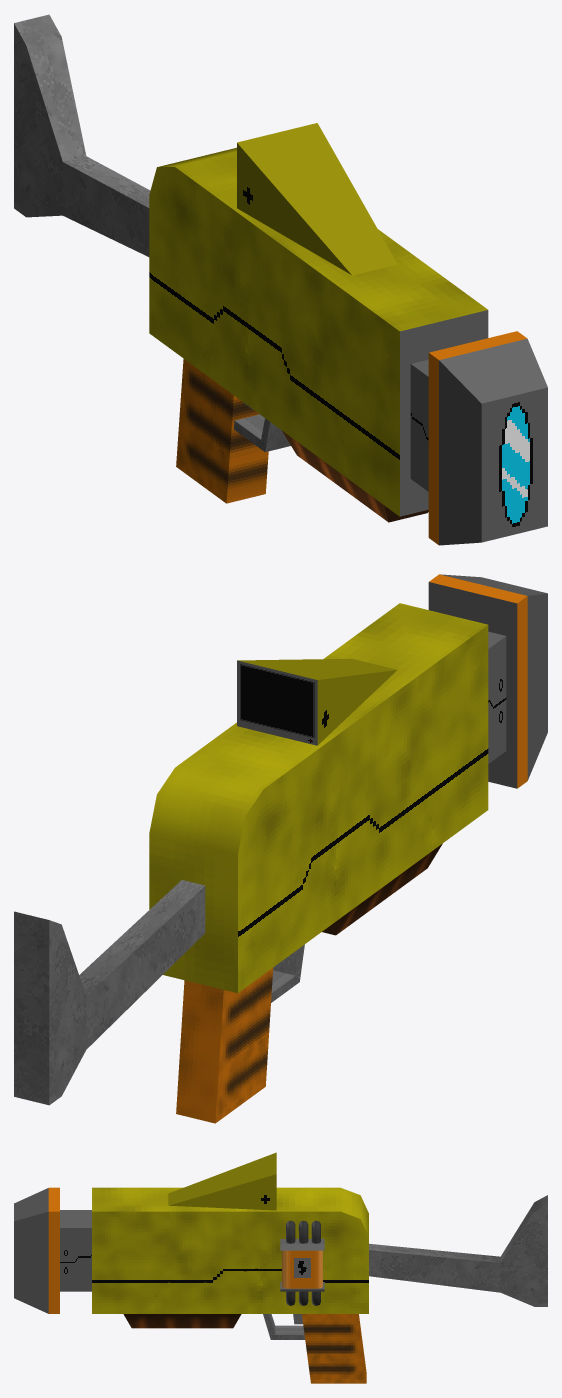
File: plama_condesator.glb
3 renders of one model, top to bottom at view 1: azimuth 30°, elevation 25°; view 2: azimuth 150°, elevation 25°; view 3: azimuth 270°, elevation 25°, orthographic. The views are drawn at different scales.
Visible parts, largest first — view 1: Cube, Cube.001; view 2: Cube, Cube.001; view 3: Cube, Cube.001, Cube.004, Cube.003, Cube.002.
Boxes of the visible parts, bbox=[...] form: Cube: bbox=[14, 14, 488, 522]; Cube.001: bbox=[410, 331, 547, 545]; Cube: bbox=[14, 603, 488, 1123]; Cube.001: bbox=[428, 574, 547, 788]; Cube: bbox=[92, 1152, 547, 1383]; Cube.001: bbox=[14, 1187, 91, 1313]; Cube.004: bbox=[282, 1250, 322, 1288]; Cube.003: bbox=[286, 1220, 320, 1305]; Cube.002: bbox=[280, 1239, 324, 1291].
Size of the model in its own units: 0.0649 by 0.2099 by 0.4725.
Materials: 1 (1 with a texture image).
